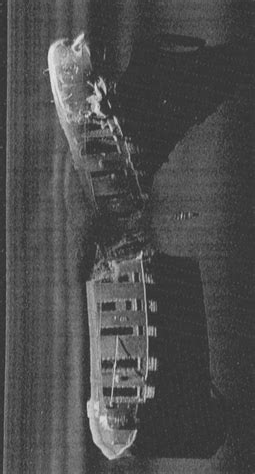ship: (44, 36, 156, 461)
